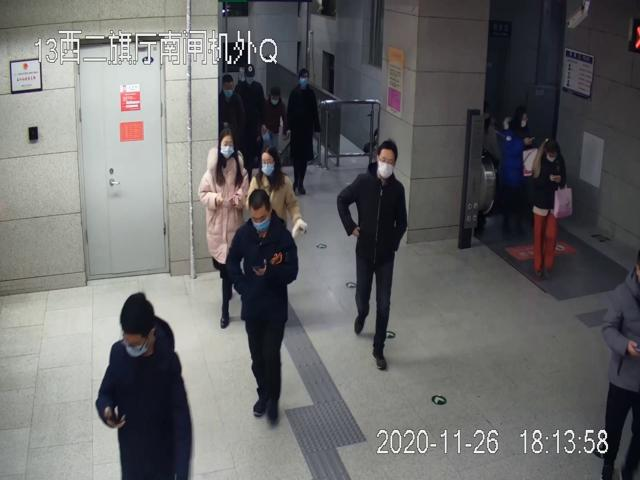person: (95, 292, 194, 480), (228, 189, 300, 427), (338, 137, 409, 372), (197, 128, 250, 330), (532, 139, 568, 279), (285, 68, 322, 194)
